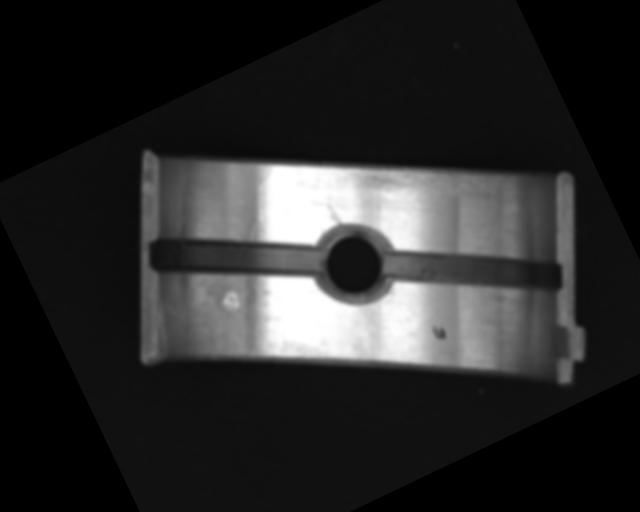blot: (429, 321, 448, 344)
bruise: (218, 289, 243, 315)
gap: (380, 191, 567, 350), (144, 183, 322, 331)
hole: (304, 214, 409, 316)
nick: (238, 159, 294, 223), (324, 201, 343, 228)
scratch: (350, 107, 513, 239)
